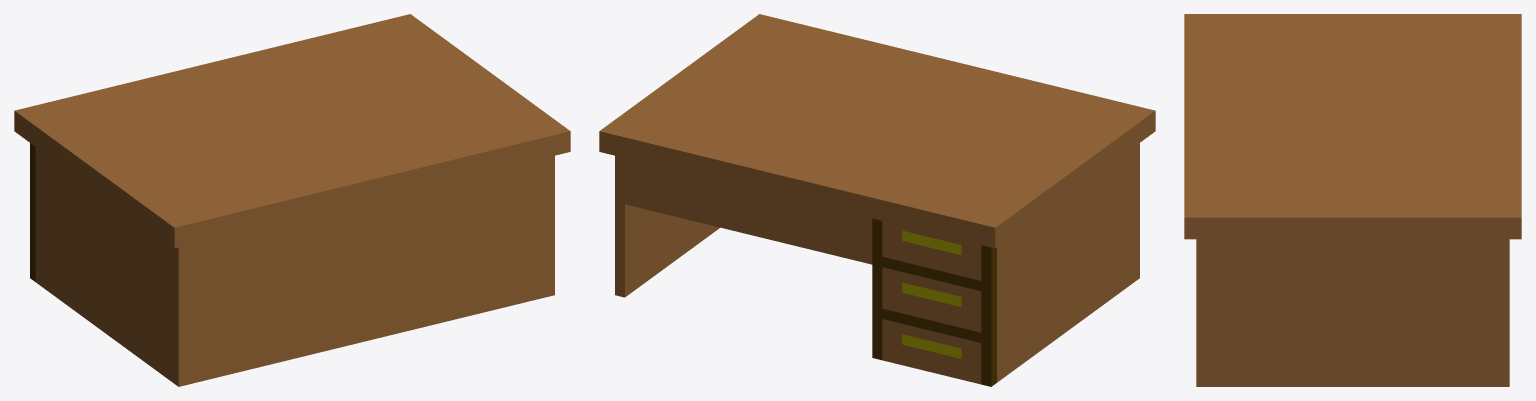
Rendered from OficeTable.obj.
The picture shows the model from 3 angles, left to right: view 1: azimuth 30°, elevation 25°; view 2: azimuth 150°, elevation 25°; view 3: azimuth 270°, elevation 25°; orthographic projection. The views are drawn at different scales.
Size of the model in its own units: 4 by 1.6 by 2.8.
Materials: 1 (1 with a texture image).
